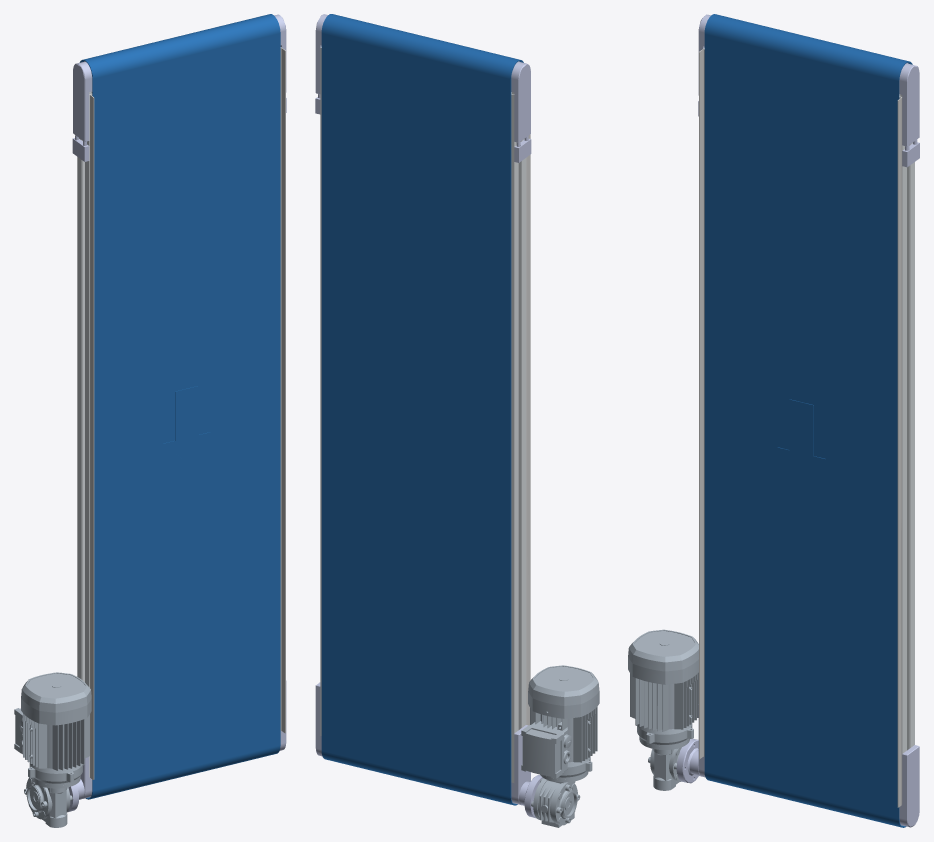
File: imm-lrx-conveyor.glb
3 views of the same model, side by side, from view 1: azimuth 30°, elevation 25°; view 2: azimuth 150°, elevation 25°; view 3: azimuth 330°, elevation 25° (orthographic). The views are drawn at different scales.
Parts seen in each view (by area): view 1: z-590223-000_132023_mesh; view 2: z-590223-000_132023_mesh; view 3: z-590223-000_132023_mesh.
Part boxes in pixels (x1,y1,x2,y2): z-590223-000_132023_mesh: [14, 14, 286, 827]; z-590223-000_132023_mesh: [315, 14, 599, 827]; z-590223-000_132023_mesh: [628, 14, 919, 827].
Size of the model in its own units: 556 by 1522 by 156.
